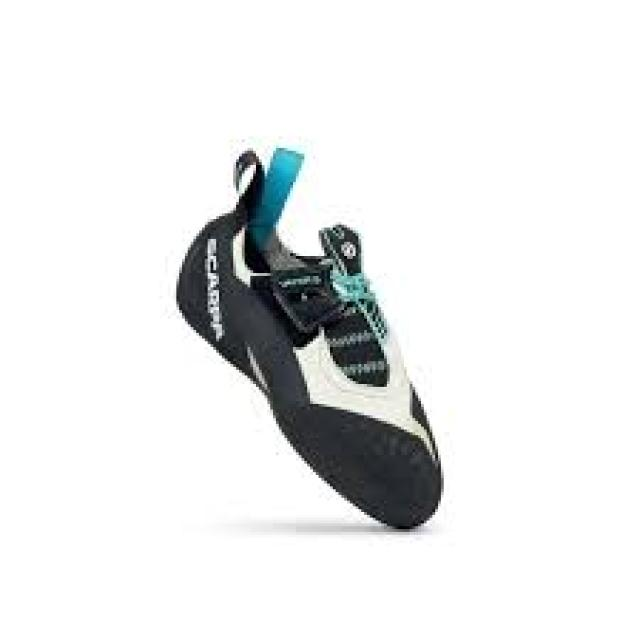climbing-shoes: (174, 147, 445, 534)
